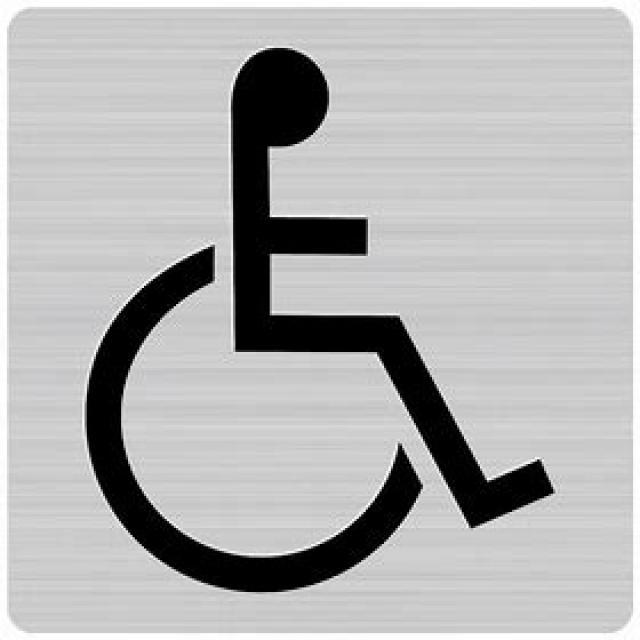symbol_of_access: (84, 41, 562, 596)
